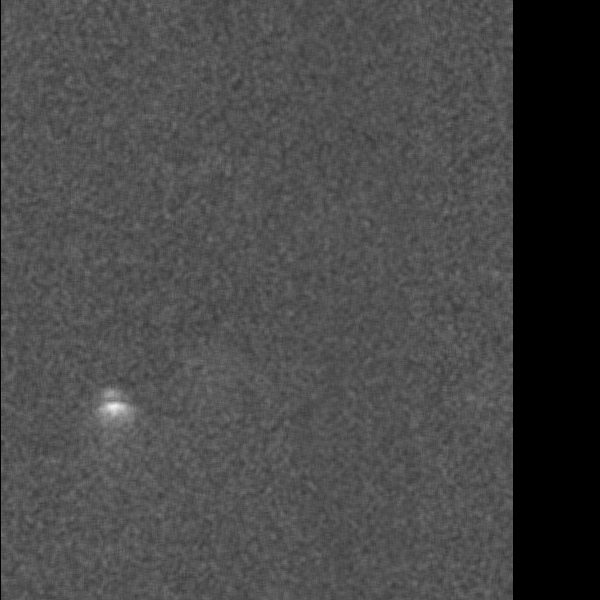spark: (444, 15, 494, 97), (38, 518, 92, 591), (83, 489, 146, 525), (456, 118, 502, 164), (99, 254, 138, 305), (413, 61, 452, 107), (288, 120, 327, 156), (52, 119, 81, 159), (103, 374, 135, 408), (127, 453, 167, 475), (8, 349, 35, 377), (132, 418, 159, 445), (113, 106, 140, 124)
